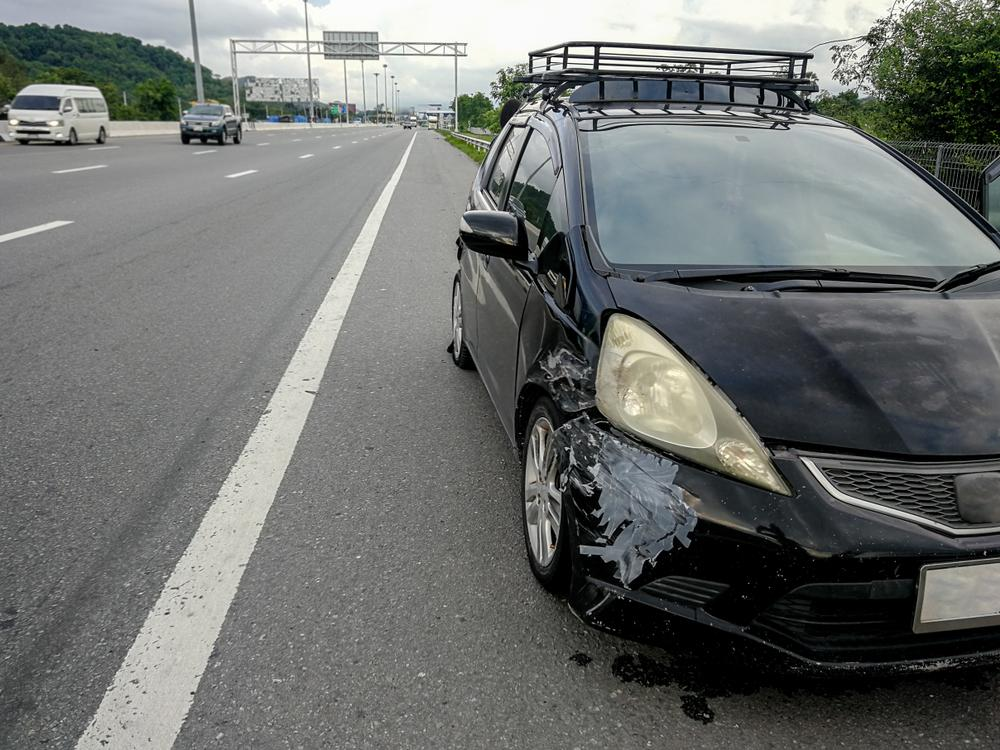dent: (527, 305, 595, 409)
scratch: (567, 428, 694, 583)
